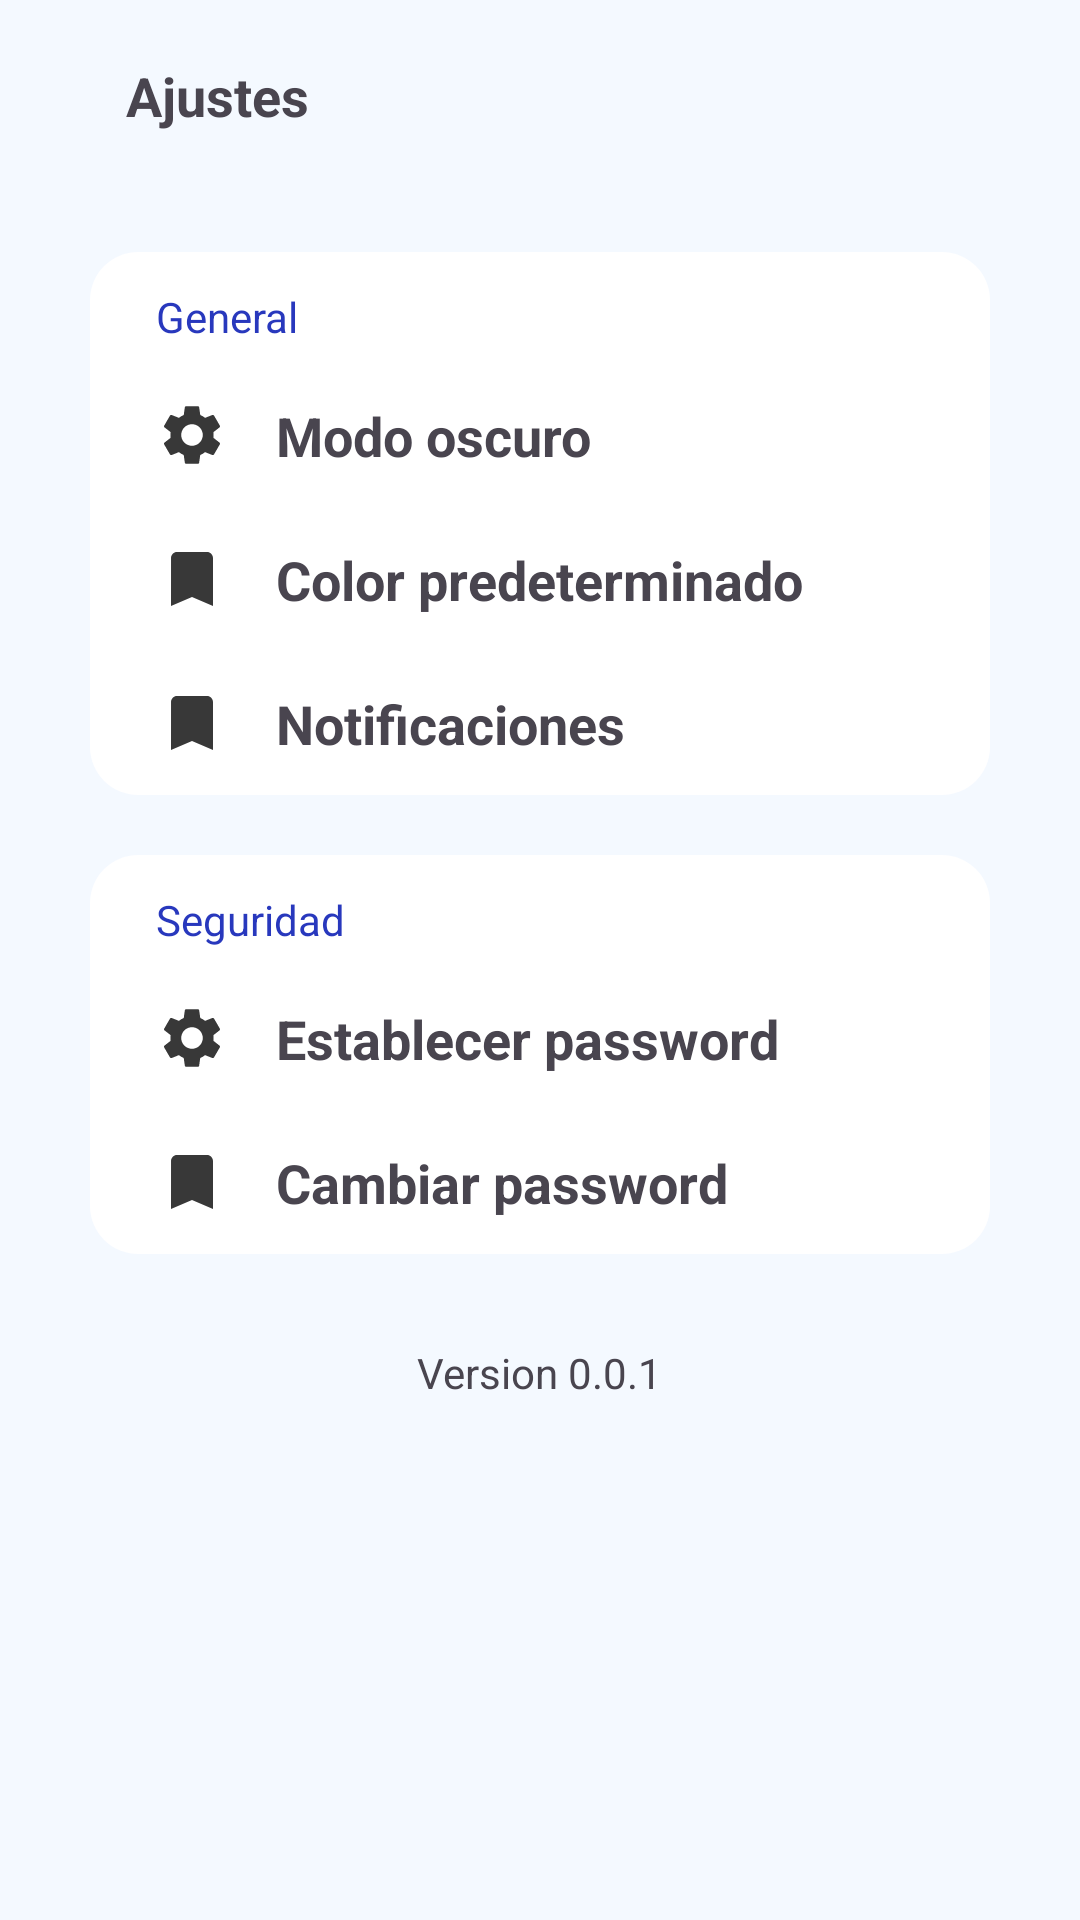

Icons on this 1080x1920 Android screen, each with its box as box=[x1, y1, x2, y2]:
settings: box=[164, 406, 220, 464], box=[164, 1009, 220, 1067]
